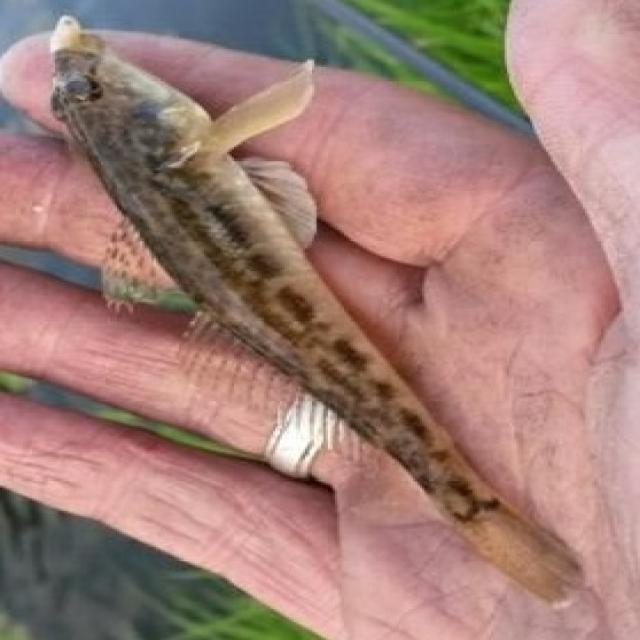Goby: (0, 5, 606, 601)
